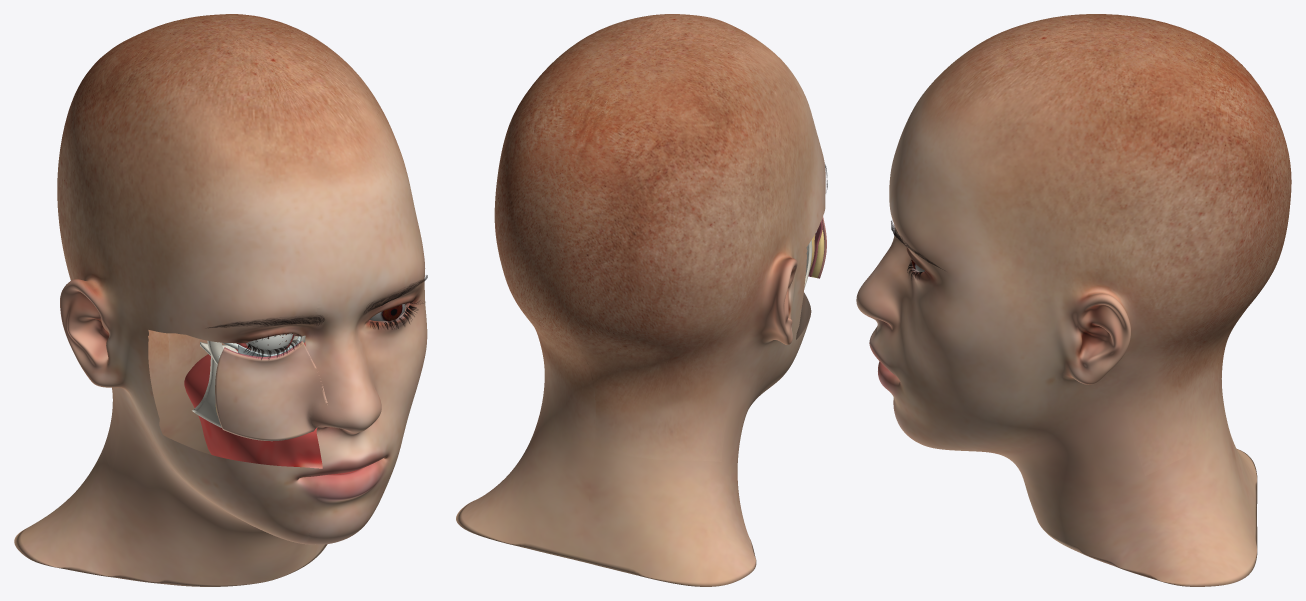
Rendered from context.glb.
3 renders of one model, left to right at view 1: azimuth 30°, elevation 25°; view 2: azimuth 150°, elevation 25°; view 3: azimuth 270°, elevation 25°, orthographic. The views are drawn at different scales.
Parts seen in each view (by area): view 1: head.context, tissue.dermis, head.cavity-context, support.maxillary-wall, surface.human.eyebrow001.R, support.globe; view 2: head.context; view 3: head.context.
Part boxes in pixels (left/top/right/bottom): head.context: left=14, top=14, right=427, bottom=586; tissue.dermis: left=215, top=341, right=327, bottom=441; head.cavity-context: left=184, top=342, right=357, bottom=474; support.maxillary-wall: left=192, top=355, right=221, bottom=427; surface.human.eyebrow001.R: left=208, top=315, right=324, bottom=327; support.globe: left=246, top=333, right=292, bottom=354; head.context: left=456, top=14, right=825, bottom=586; head.context: left=856, top=14, right=1291, bottom=586.
Bounding box in the file's own units: 0.1645 × 0.2538 × 0.2064.
13 materials, 4 textured.
